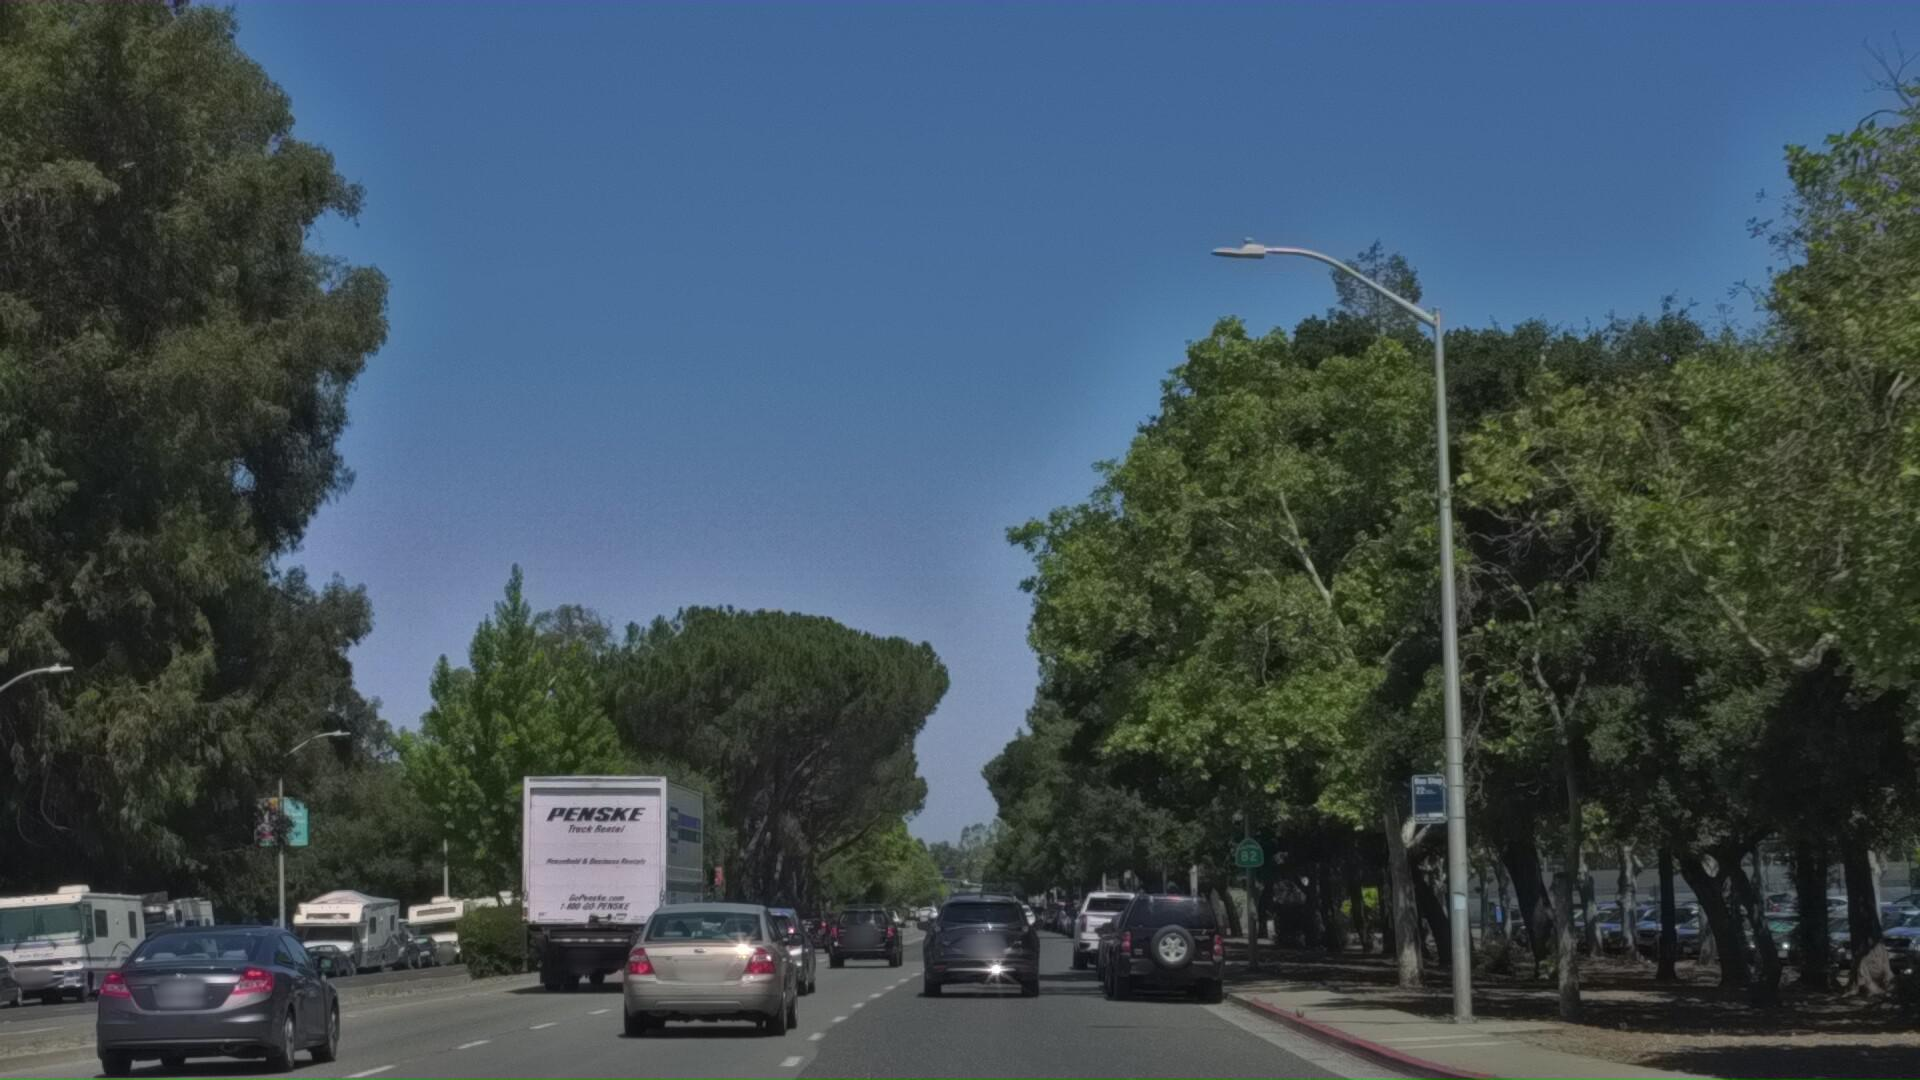car: (100, 1002, 371, 1080), (1089, 978, 1261, 1080), (611, 996, 808, 1080), (906, 984, 1046, 1080), (720, 1004, 840, 1080)
truck: (506, 852, 723, 1080)
